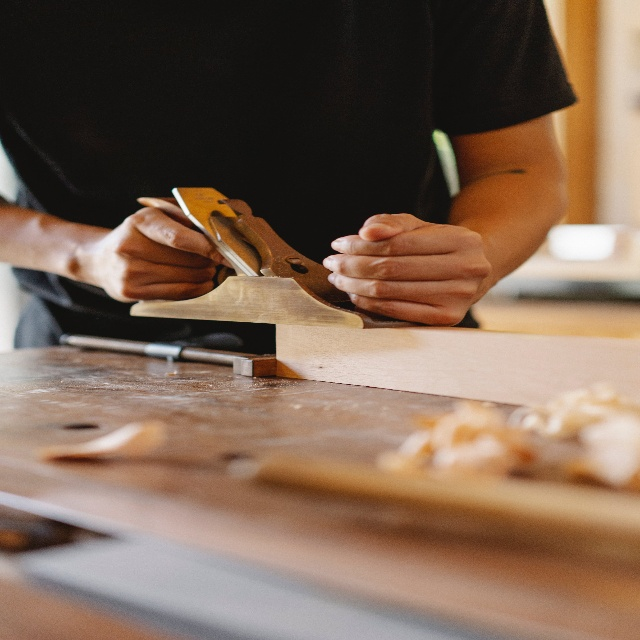Sin_guantes: (322, 213, 492, 327), (97, 205, 233, 304)
